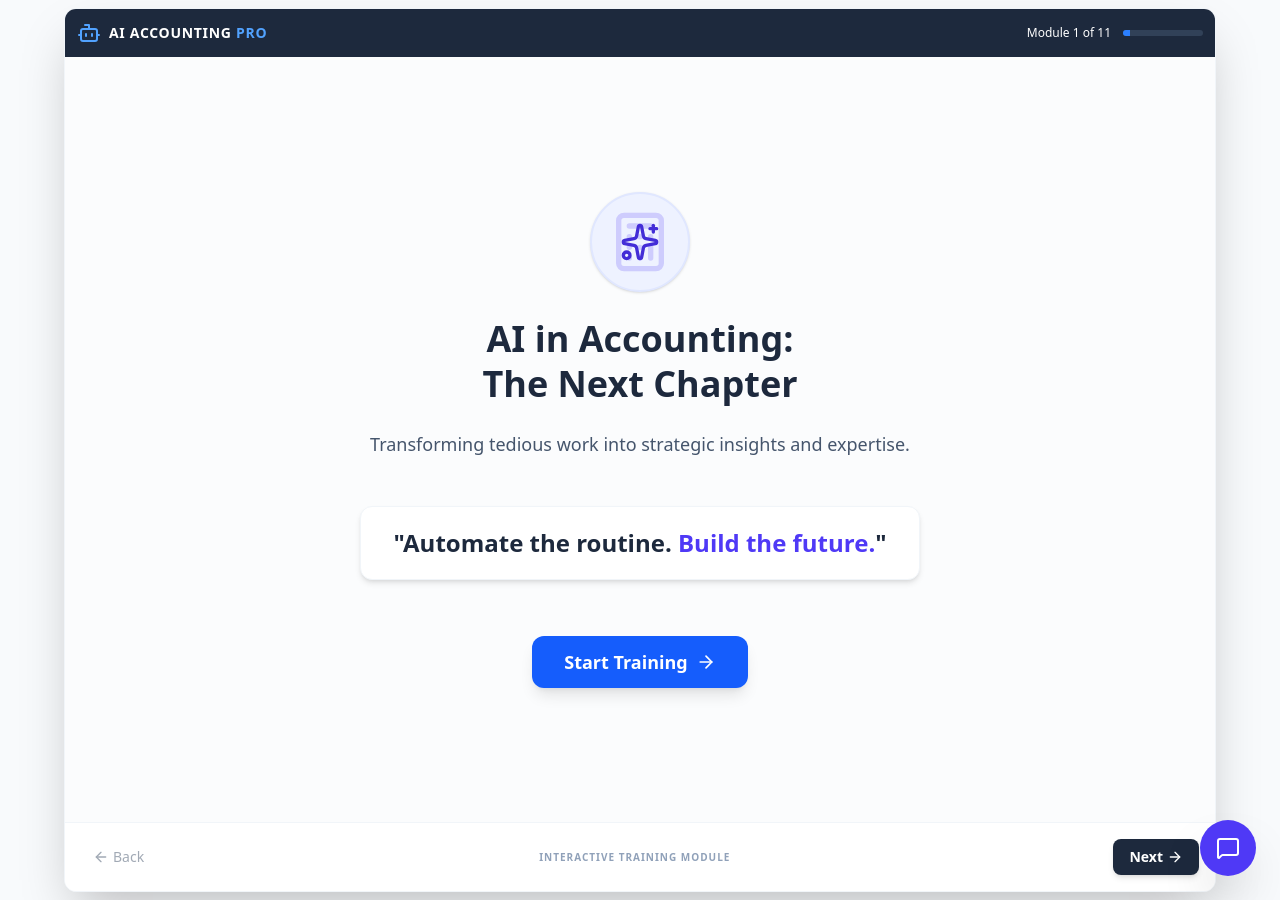
Scenario: App Component › navigates to next slide when Next button is clicked
Click the button "Next": (1156, 857) [1114,839,1199,875]
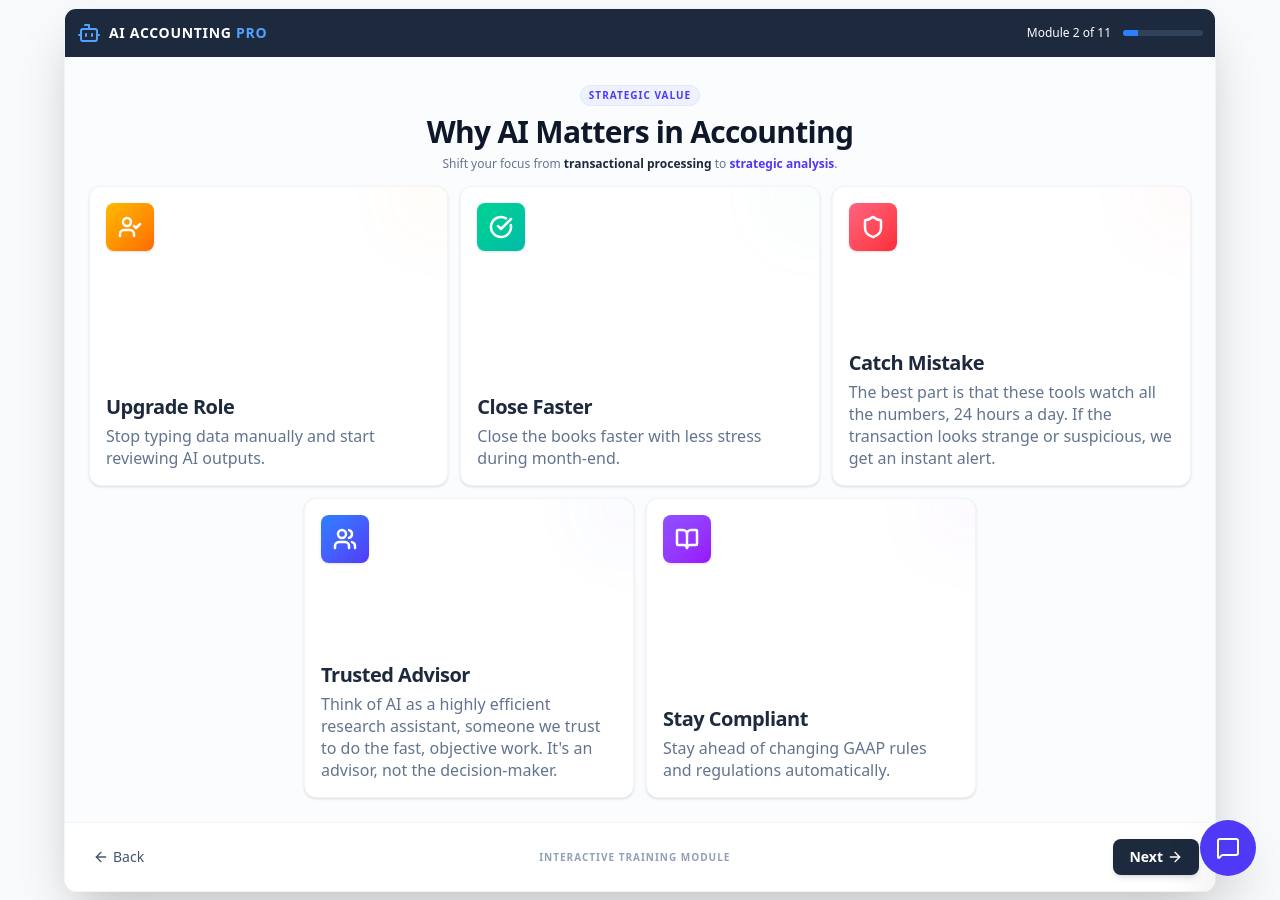
Now the heading "Why AI Matters in Accounting" is shown, box [427,111,853,152]
